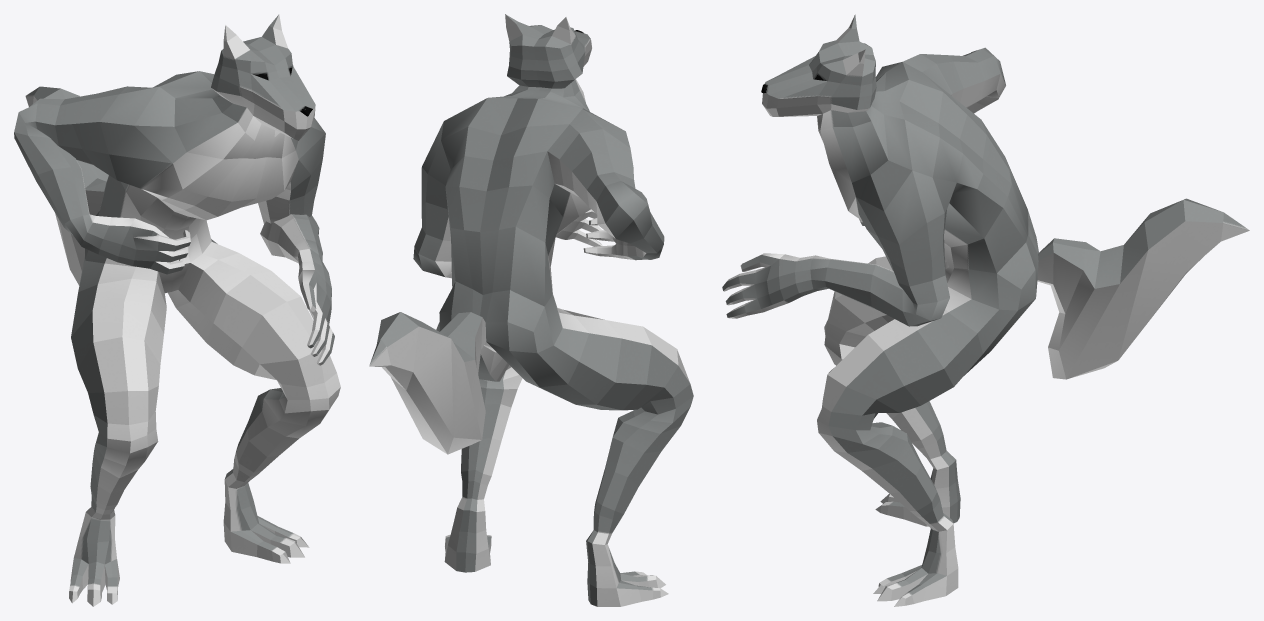
Rendered from WolfIdle_(36).obj.
3 views of the same model, side by side, from view 1: azimuth 30°, elevation 25°; view 2: azimuth 150°, elevation 25°; view 3: azimuth 270°, elevation 25° (orthographic). The views are drawn at different scales.
Parts seen in each view (by area): view 1: Box001; view 2: Box001; view 3: Box001.
Boxes of the visible parts, bbox=[...] form: Box001: bbox=[14, 14, 340, 606]; Box001: bbox=[369, 14, 693, 606]; Box001: bbox=[722, 14, 1249, 606].
Size of the model in its own units: 66.66 by 132 by 116.
